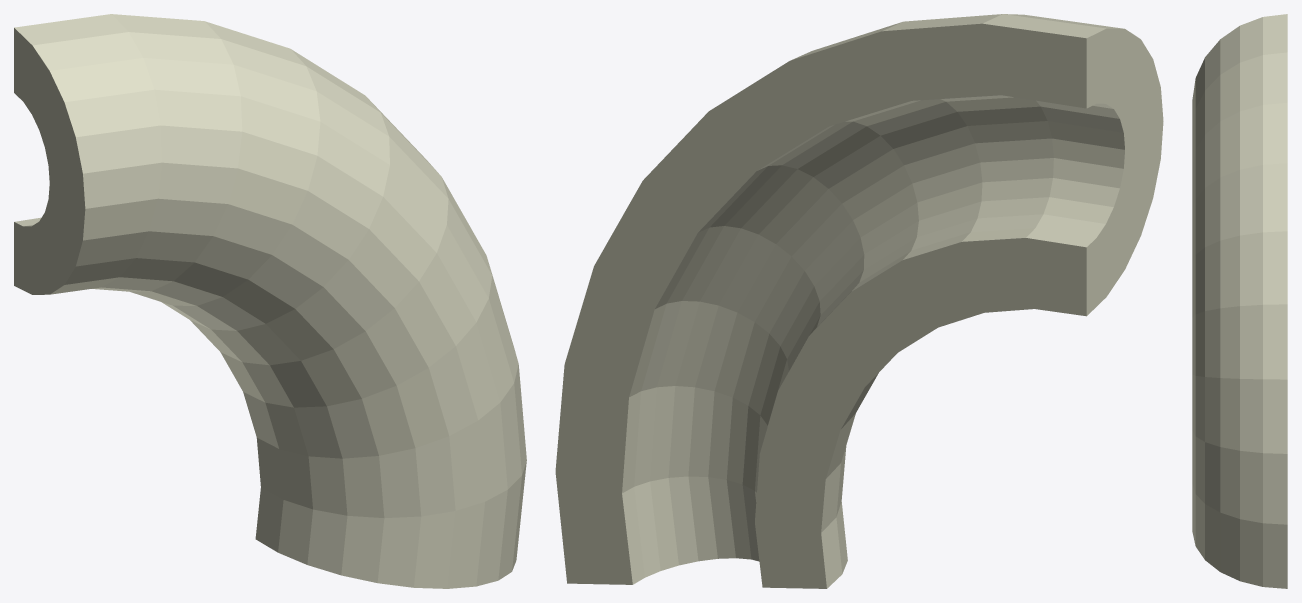
File: section_163.obj
3 renders of one model, left to right at view 1: azimuth 30°, elevation 25°; view 2: azimuth 150°, elevation 25°; view 3: azimuth 270°, elevation 25°, orthographic. The views are drawn at different scales.
Size of the model in its own units: 8 by 9.67 by 2.
